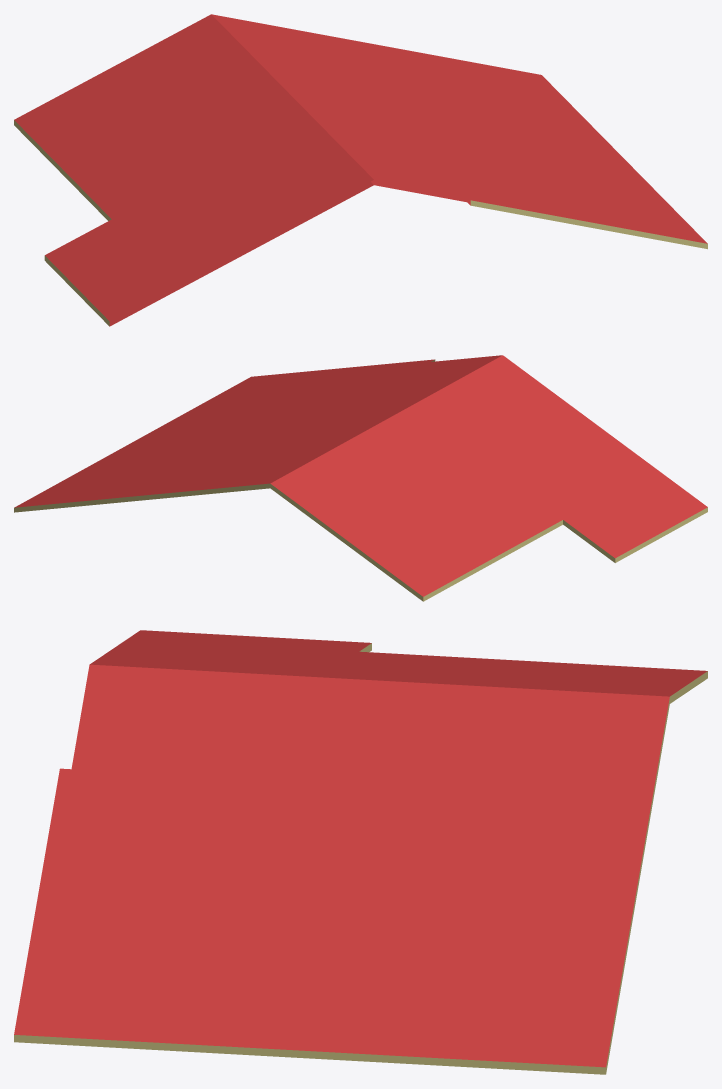
3 views of the same model, one above another, from view 1: azimuth 30°, elevation 25°; view 2: azimuth 150°, elevation 25°; view 3: azimuth 270°, elevation 25° (orthographic). The views are drawn at different scales.
Bounding box in the file's own units: 11.7 × 8.49 × 2.31.
